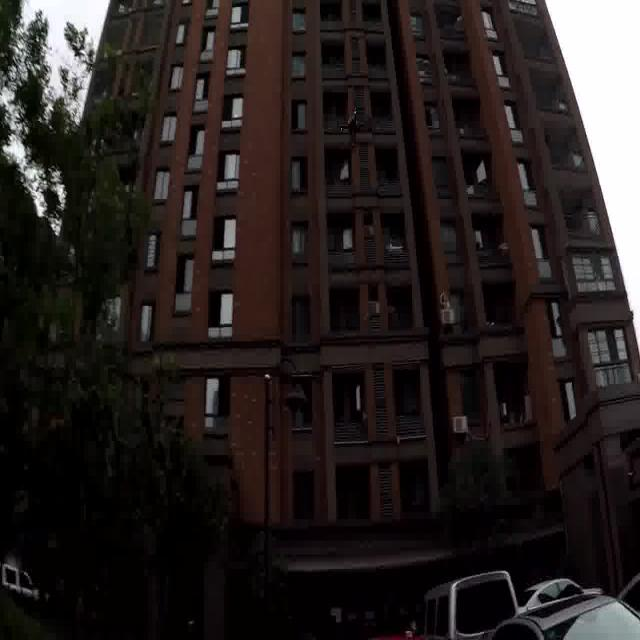drones: (335, 100, 379, 156)
